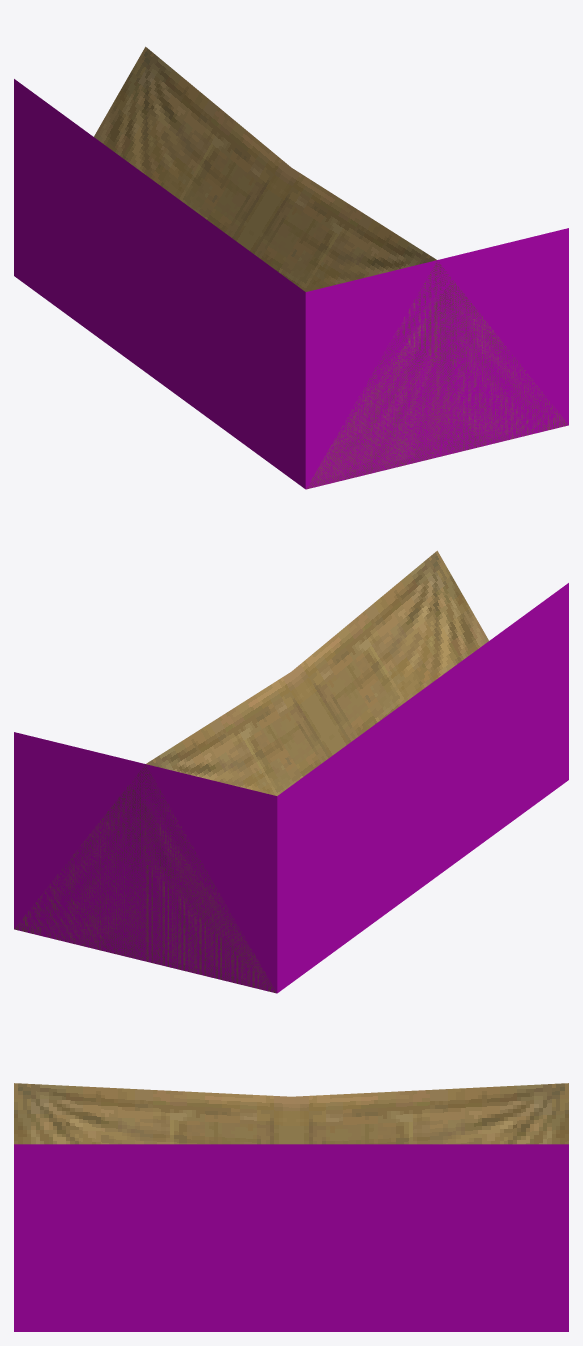
Rendered from M5_Camp_Tent.glb.
The picture shows the model from 3 angles, top to bottom: view 1: azimuth 30°, elevation 25°; view 2: azimuth 150°, elevation 25°; view 3: azimuth 270°, elevation 25°; orthographic projection. The views are drawn at different scales.
Visible parts, largest first — view 1: M5_CAMP_TENT; view 2: M5_CAMP_TENT; view 3: M5_CAMP_TENT.
Part boxes in pixels (x1,y1,x2,y2): M5_CAMP_TENT: [14, 46, 568, 489]; M5_CAMP_TENT: [14, 550, 568, 993]; M5_CAMP_TENT: [14, 1083, 568, 1331].
Size of the model in its own units: 2.06 by 1.48 by 3.96.
Materials: 3 (2 with a texture image).
